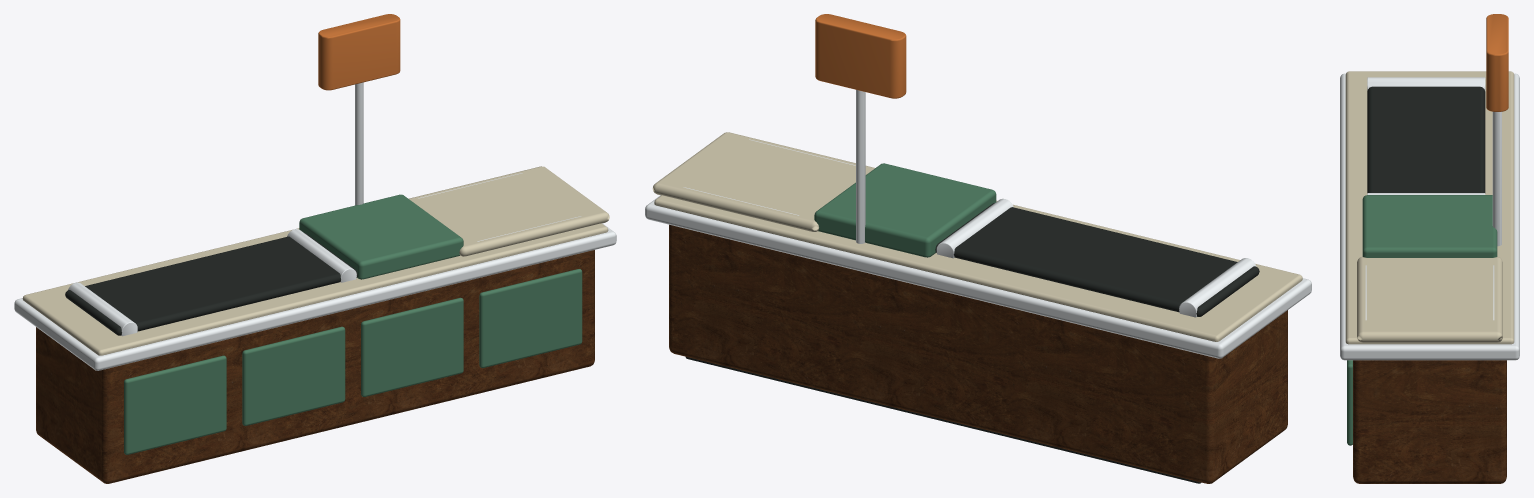
Rendered from grocery_checkout_lane.glb.
3 views of the same model, side by side, from view 1: azimuth 30°, elevation 25°; view 2: azimuth 150°, elevation 25°; view 3: azimuth 270°, elevation 25° (orthographic). The views are drawn at different scales.
Parts seen in each view (by area): view 1: grocery_checkout_lane_ag_weathered_green_enamel_pbr, grocery_checkout_lane_ss_period_wood_laminate_pbr, grocery_checkout_lane_ag_aged_cream_enamel_pbr, grocery_checkout_lane_ag_dark_rubber_conveyor_pbr, grocery_checkout_lane_ss_polished_chrome, grocery_checkout_lane_ag_price_rail_orange_pbr; view 2: grocery_checkout_lane_ss_period_wood_laminate_pbr, grocery_checkout_lane_ag_aged_cream_enamel_pbr, grocery_checkout_lane_ag_dark_rubber_conveyor_pbr, grocery_checkout_lane_ss_polished_chrome, grocery_checkout_lane_ag_weathered_green_enamel_pbr, grocery_checkout_lane_ag_price_rail_orange_pbr; view 3: grocery_checkout_lane_ag_aged_cream_enamel_pbr, grocery_checkout_lane_ss_period_wood_laminate_pbr, grocery_checkout_lane_ag_dark_rubber_conveyor_pbr, grocery_checkout_lane_ss_polished_chrome, grocery_checkout_lane_ag_weathered_green_enamel_pbr, grocery_checkout_lane_ag_price_rail_orange_pbr.
Boxes of the visible parts, x1=… form: grocery_checkout_lane_ag_weathered_green_enamel_pbr: x1=124, y1=194, x2=582, y2=454; grocery_checkout_lane_ss_period_wood_laminate_pbr: x1=36, y1=250, x2=594, y2=483; grocery_checkout_lane_ag_aged_cream_enamel_pbr: x1=22, y1=166, x2=609, y2=355; grocery_checkout_lane_ag_dark_rubber_conveyor_pbr: x1=65, y1=233, x2=357, y2=335; grocery_checkout_lane_ss_polished_chrome: x1=14, y1=82, x2=616, y2=370; grocery_checkout_lane_ag_price_rail_orange_pbr: x1=318, y1=14, x2=400, y2=90; grocery_checkout_lane_ss_period_wood_laminate_pbr: x1=669, y1=224, x2=1287, y2=483; grocery_checkout_lane_ag_aged_cream_enamel_pbr: x1=652, y1=132, x2=1302, y2=341; grocery_checkout_lane_ag_dark_rubber_conveyor_pbr: x1=685, y1=203, x2=1259, y2=483; grocery_checkout_lane_ss_polished_chrome: x1=645, y1=90, x2=1311, y2=358; grocery_checkout_lane_ag_weathered_green_enamel_pbr: x1=814, y1=163, x2=996, y2=257; grocery_checkout_lane_ag_price_rail_orange_pbr: x1=815, y1=14, x2=906, y2=98; grocery_checkout_lane_ag_aged_cream_enamel_pbr: x1=1345, y1=71, x2=1514, y2=344; grocery_checkout_lane_ss_period_wood_laminate_pbr: x1=1353, y1=360, x2=1506, y2=483; grocery_checkout_lane_ag_dark_rubber_conveyor_pbr: x1=1367, y1=86, x2=1485, y2=192; grocery_checkout_lane_ss_polished_chrome: x1=1340, y1=73, x2=1519, y2=360; grocery_checkout_lane_ag_weathered_green_enamel_pbr: x1=1347, y1=195, x2=1497, y2=445; grocery_checkout_lane_ag_price_rail_orange_pbr: x1=1486, y1=14, x2=1508, y2=111.
Size of the model in its own units: 3.49 by 2.15 by 0.96.
Materials: 6 (1 with a texture image).
